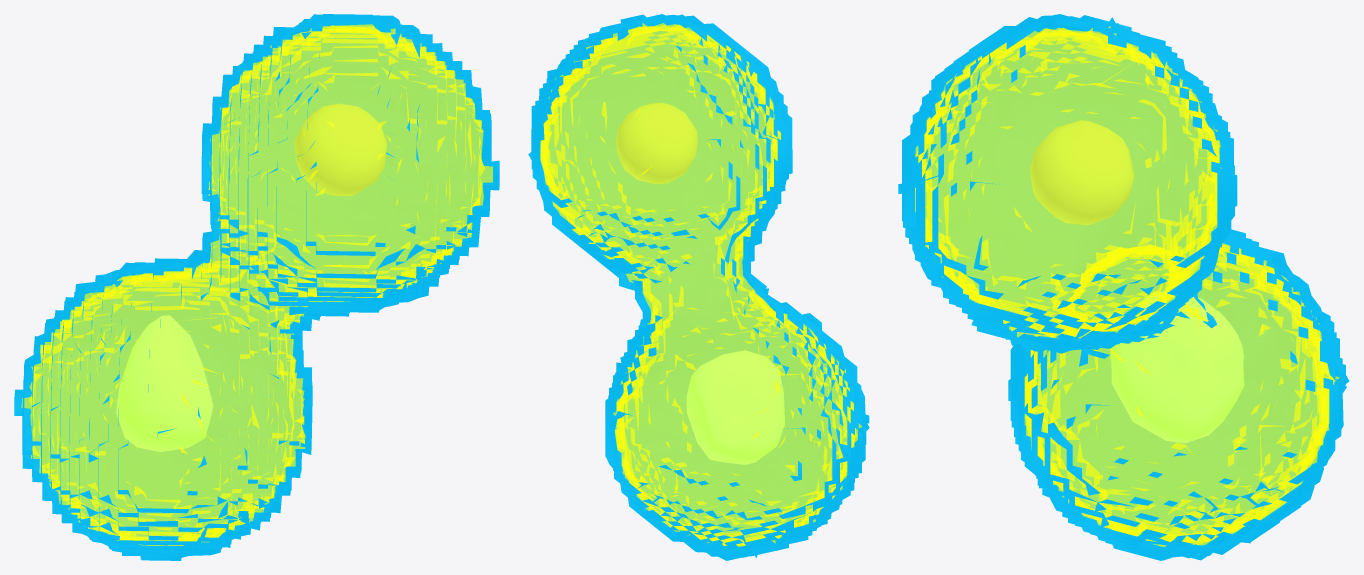
Rendered from displacement.glb.
3 renders of one model, left to right at view 1: azimuth 30°, elevation 25°; view 2: azimuth 150°, elevation 25°; view 3: azimuth 270°, elevation 25°, orthographic. The views are drawn at different scales.
Parts seen in each view (by area): view 1: displacement.001; view 2: displacement.001; view 3: displacement.001.
Part boxes in pixels (<box>): displacement.001: <box>14,14,499,560</box>; displacement.001: <box>528,14,869,560</box>; displacement.001: <box>898,14,1349,560</box>.
Bounding box in the file's own units: 2.22 × 2.74 × 1.96.
